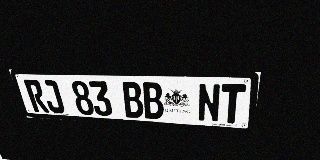3: (88, 81, 113, 116)
8: (70, 81, 95, 115)
B: (120, 82, 144, 118), (141, 82, 164, 119)
J: (40, 80, 66, 114)
N: (198, 83, 221, 123)
R: (23, 80, 50, 113)
T: (220, 84, 246, 124)
